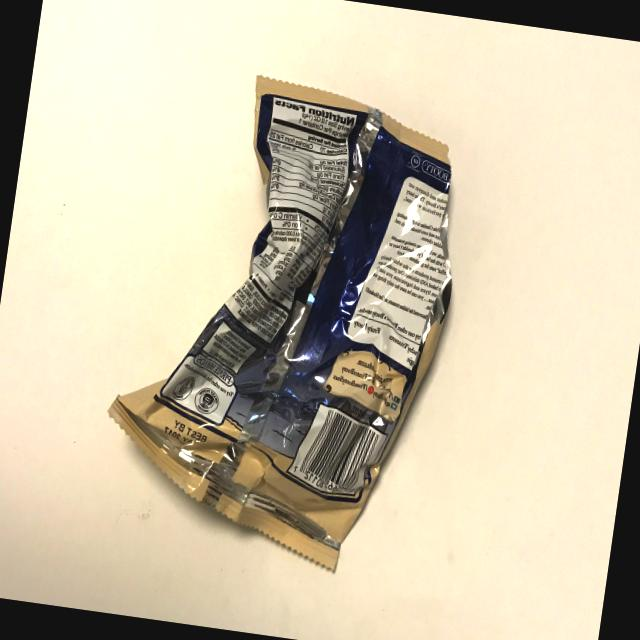Plastic: (61, 33, 514, 610)
